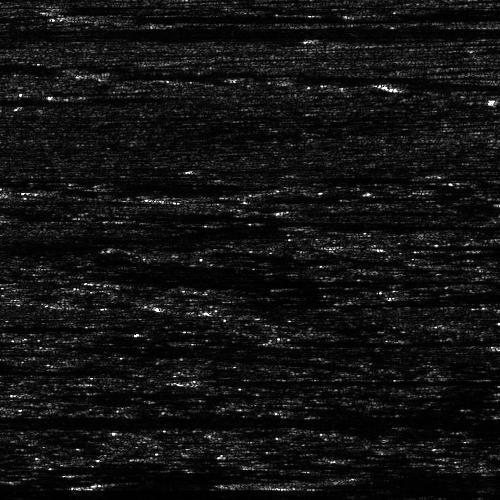object: (167, 473, 376, 494), (57, 69, 150, 80), (251, 338, 314, 345), (359, 79, 400, 88), (261, 223, 314, 228), (163, 378, 216, 383), (50, 93, 103, 98), (342, 241, 373, 248), (489, 97, 500, 104)
shadow: (103, 69, 500, 80), (0, 416, 412, 425), (0, 28, 429, 35), (189, 378, 500, 383), (272, 473, 340, 494), (380, 79, 500, 88), (98, 15, 455, 18), (283, 338, 416, 345), (288, 223, 421, 228), (77, 93, 199, 98), (0, 367, 71, 374), (358, 241, 426, 248), (0, 97, 89, 102), (0, 324, 45, 331)
